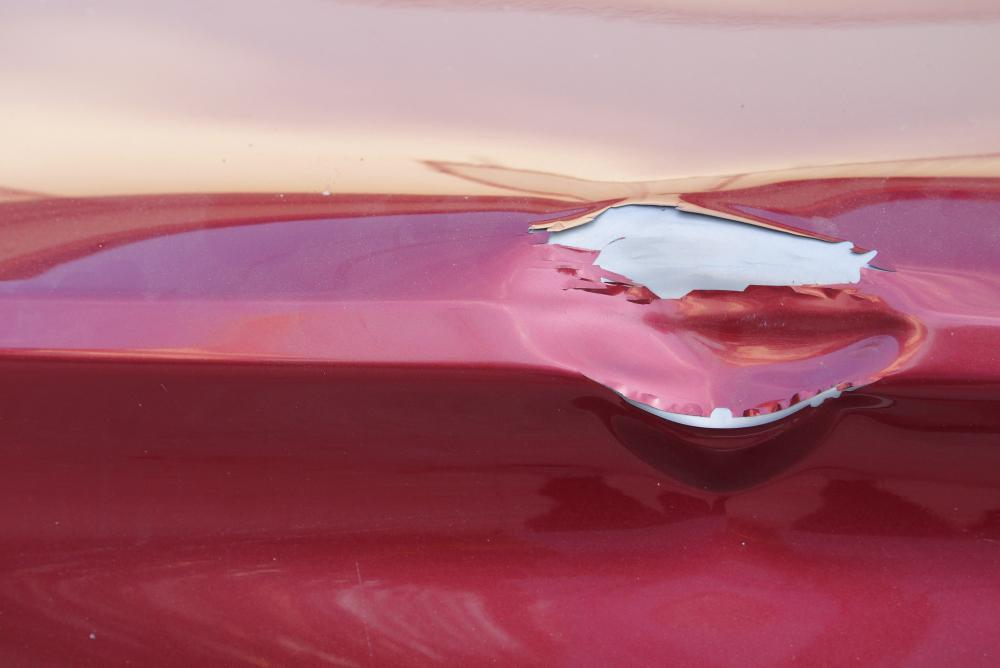dent: (505, 200, 925, 423)
